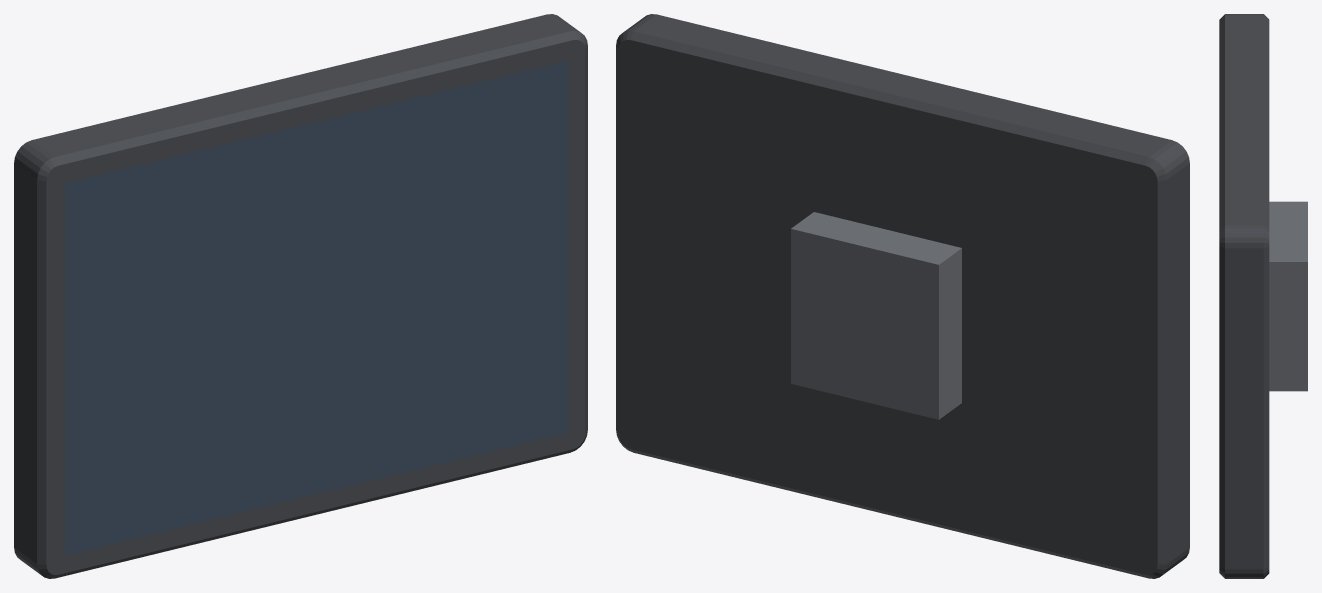
File: Garage_Monitor_Small.glb
3 views of the same model, side by side, from view 1: azimuth 30°, elevation 25°; view 2: azimuth 150°, elevation 25°; view 3: azimuth 270°, elevation 25° (orthographic). The views are drawn at different scales.
Parts seen in each view (by area): view 1: Garage_Monitor_Small; view 2: Garage_Monitor_Small; view 3: Garage_Monitor_Small.
Boxes of the visible parts, x1,y1,x2,y2 form: Garage_Monitor_Small: (14,14,587,578); Garage_Monitor_Small: (616,14,1189,578); Garage_Monitor_Small: (1219,14,1307,578).
Bounding box in the file's own units: 0.372 × 0.272 × 0.063.
